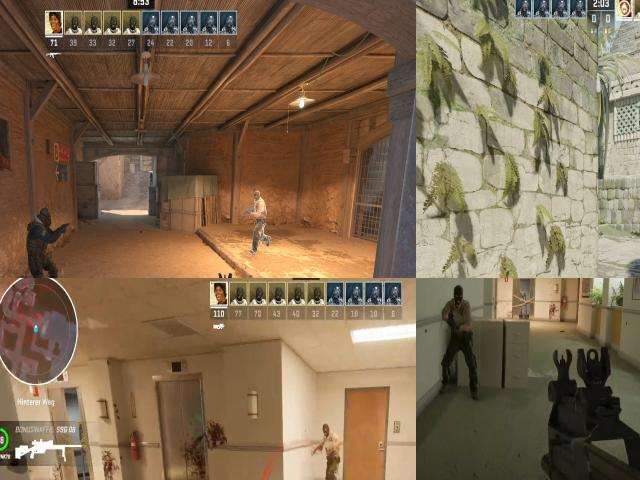CT: (30, 206, 53, 278), (150, 172, 152, 185)
CT-Head: (38, 208, 52, 226), (151, 173, 152, 175)
T: (444, 285, 474, 346), (319, 418, 342, 480), (253, 191, 267, 242)
T-Head: (448, 284, 467, 308), (320, 423, 333, 439), (254, 191, 260, 201)
